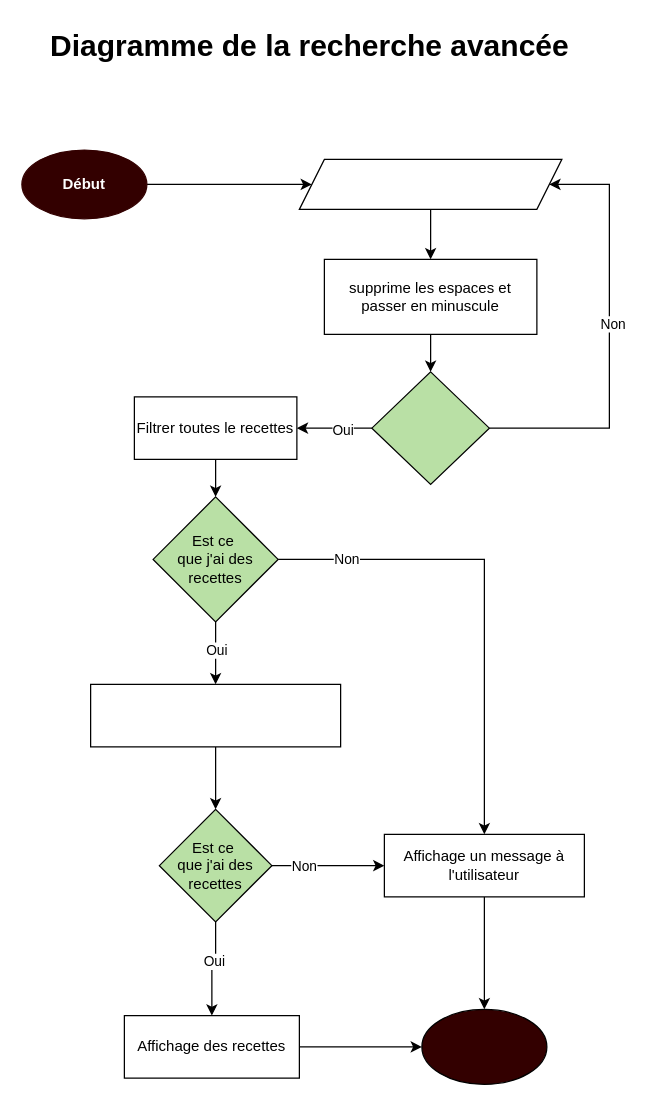
The diagram is 646 pixels wide and 1106 high, and some of its shapes have lost their labels. The shapes that lost their labels are listed below. From the top down, each one's centre as x and y in pixels, then its label:
At (430,183): "Utilisateur saisie dans la barre de recherche".
At (430,427): "Longueur du texte >=3?".
At (215,715): "Met à jour les recettes filtrées avec les resultats de la recherche".
At (484,1046): "Fin".
